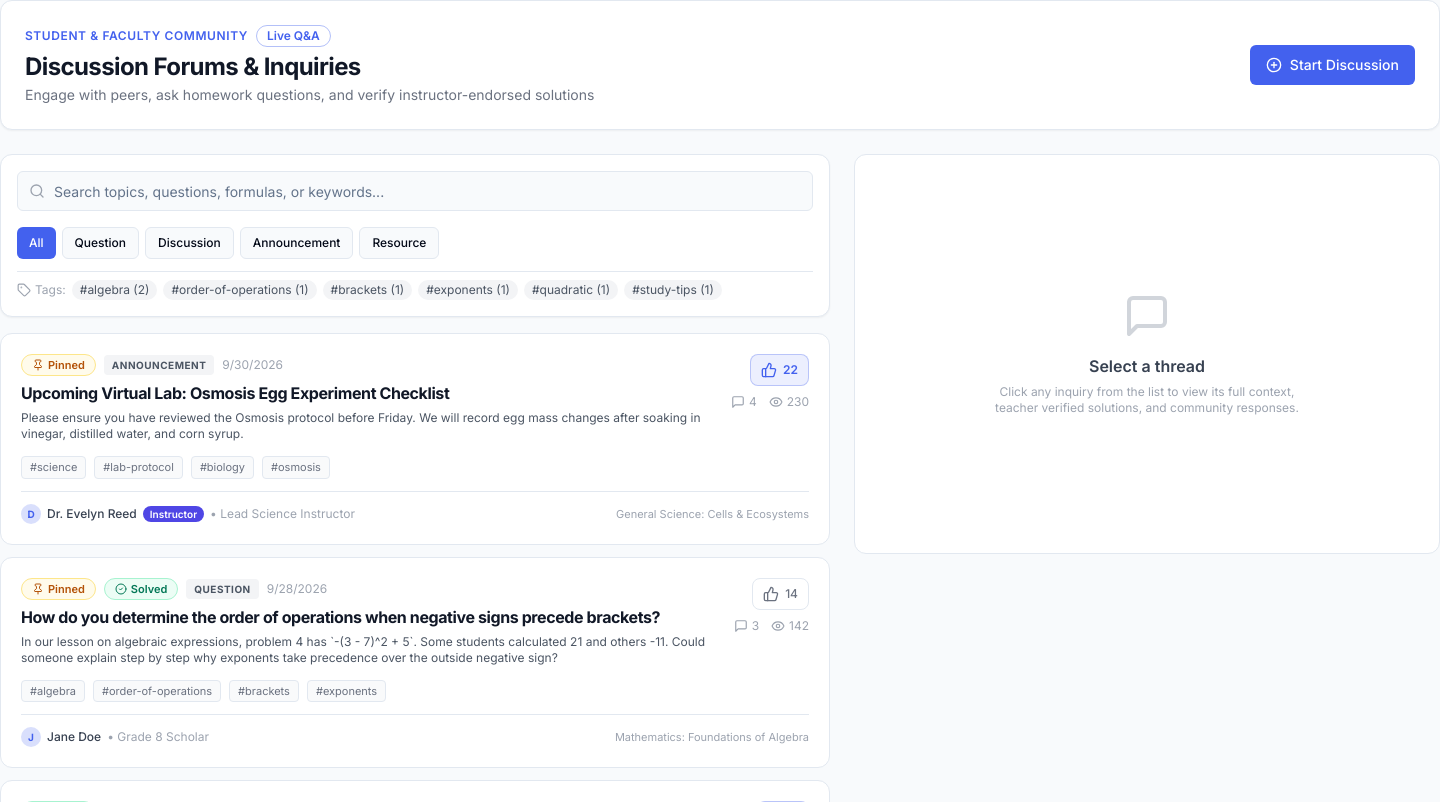
Test: DiscussionForumView Component › selects a thread and displays detailed view with replies
Click the heading "How do you determine the order of operations": (369, 616) [21,606,718,628]
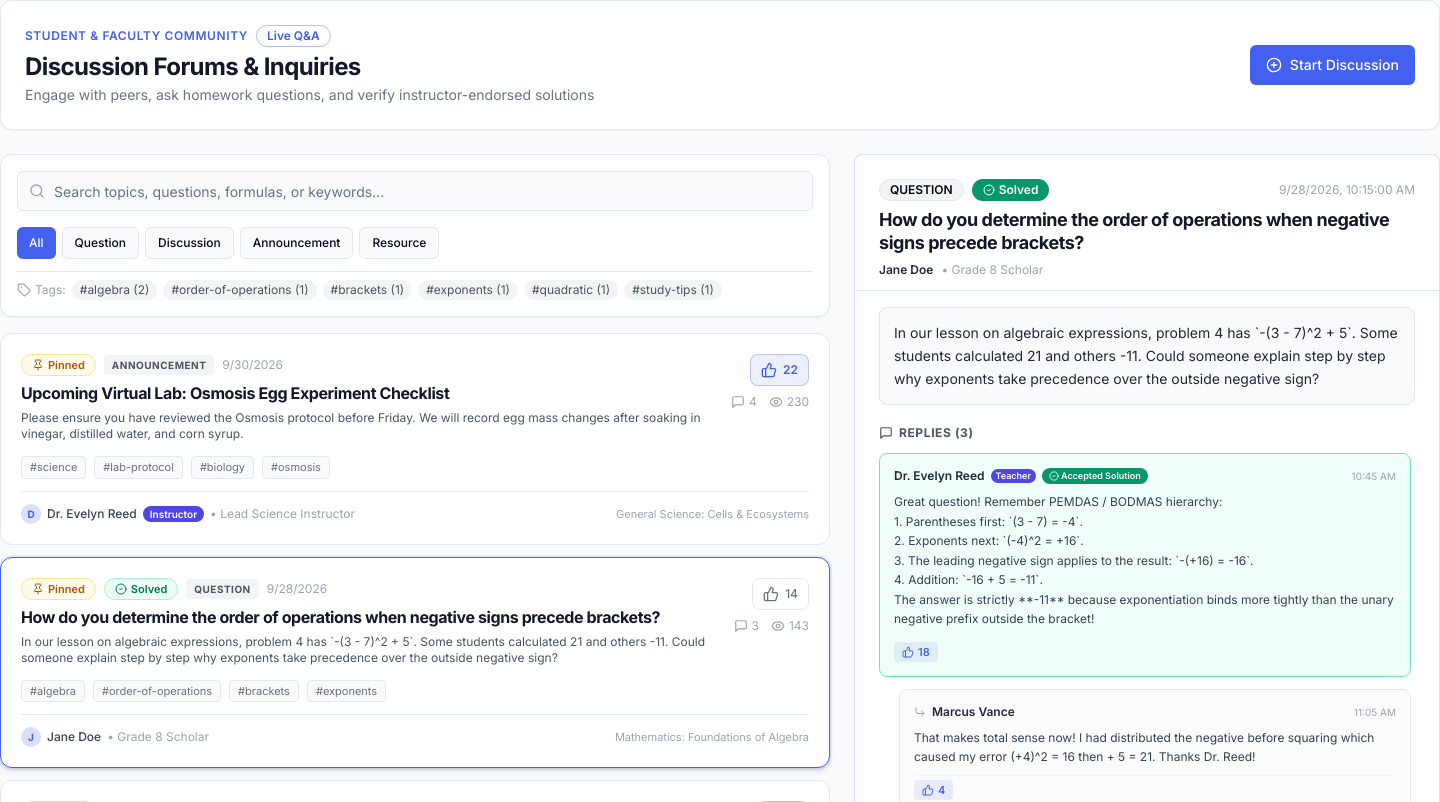
Expected: the text "PEMDAS / BODMAS hierarchy" is shown, [894,494,1394,626]
Expected: the text "Accepted Solution" is shown, [1042,468,1148,484]
